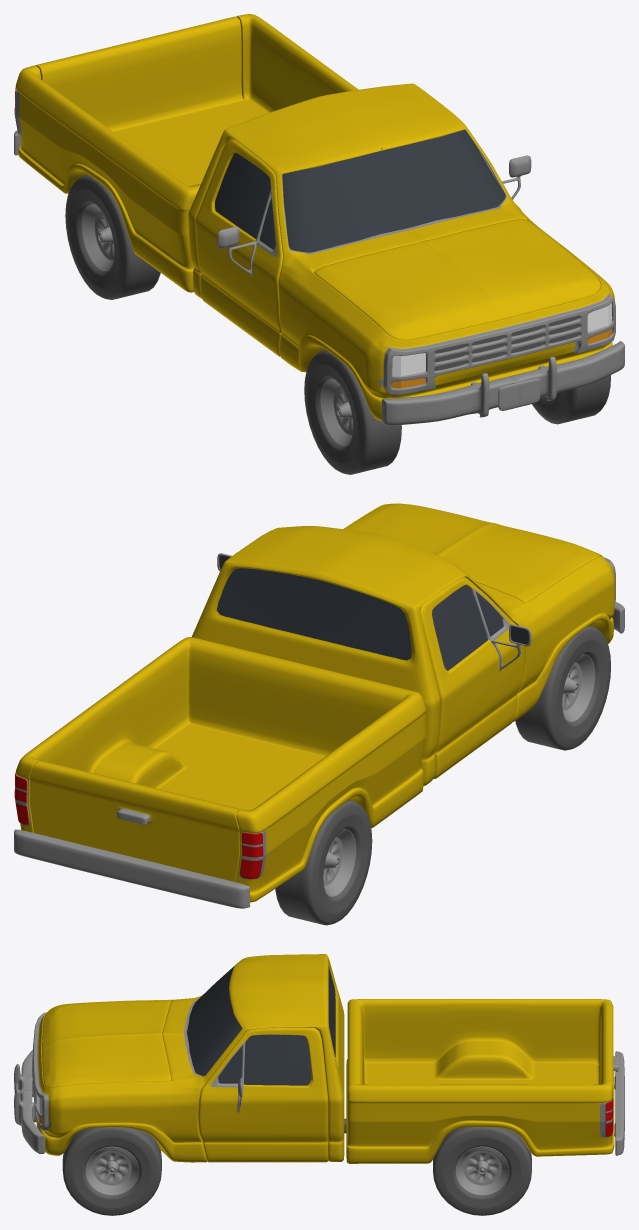
File: Pick-UpPadrao.glb
The picture shows the model from 3 angles, top to bottom: view 1: azimuth 30°, elevation 25°; view 2: azimuth 150°, elevation 25°; view 3: azimuth 270°, elevation 25°; orthographic projection. The views are drawn at different scales.
Parts seen in each view (by area): view 1: Cube, Cubo, Plane, Círculo.004, Círculo.007, Círculo.001, Círculo.006, Círculo.005, Cubo.004, Cubo.002; view 2: Cubo, Cube, Plane, Círculo.007, Círculo.004, Círculo.006, Círculo.005; view 3: Cube, Cubo, Plane, Círculo.001, Círculo.002, Círculo.003, Círculo.
Part boxes in pixels (box(x1,y1,x2,y2)): Cube: box(188, 83, 624, 425); Cubo: box(14, 14, 358, 292); Plane: box(215, 129, 505, 252); Círculo.004: box(304, 350, 401, 474); Círculo.007: box(65, 175, 160, 299); Círculo.001: box(532, 375, 610, 424); Círculo.006: box(81, 203, 114, 271); Círculo.005: box(320, 378, 353, 446); Cubo.004: box(434, 316, 579, 370); Cubo.002: box(392, 303, 612, 376); Cubo: box(14, 637, 425, 908); Cube: box(192, 503, 624, 785); Plane: box(217, 555, 528, 670); Círculo.007: box(275, 800, 372, 925); Círculo.004: box(515, 625, 610, 750); Círculo.006: box(323, 829, 356, 896); Círculo.005: box(562, 654, 595, 722); Cube: box(14, 954, 344, 1162); Cubo: box(346, 999, 624, 1163); Plane: box(187, 966, 335, 1085); Círculo.001: box(62, 1127, 161, 1215); Círculo.002: box(433, 1127, 531, 1215); Círculo.003: box(455, 1146, 509, 1195); Círculo: box(85, 1146, 139, 1195).
Bounding box in the file's own units: 3.05 × 2.28 × 6.65.
